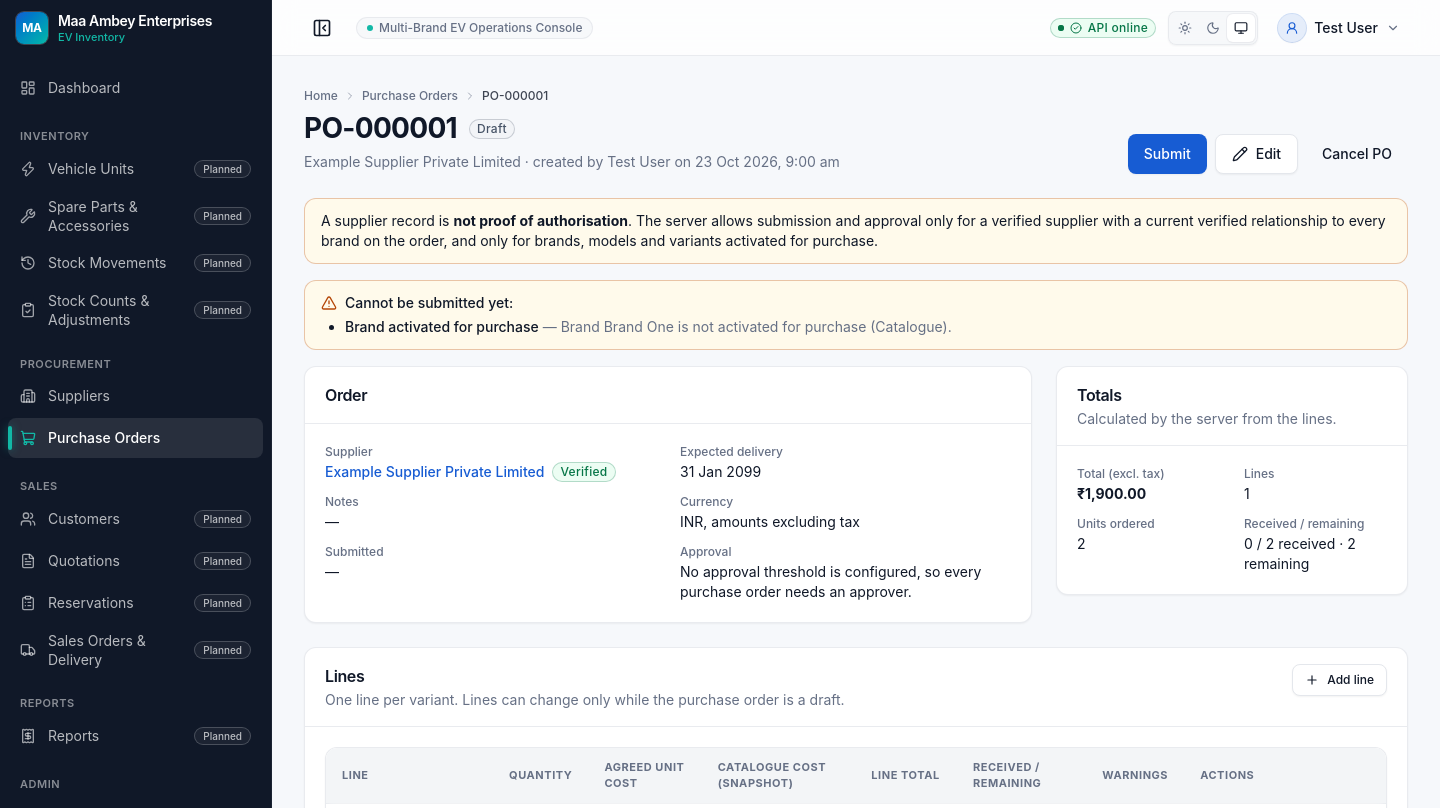
Scenario: purchase order detail › shows lines, hidden snapshot, history and server blockers; submit refusals list them
Expected: the heading "PO-000001" is shown, [304,110,457,147]
Expected: the text "Cannot be submitted yet:" is shown, [321,294,513,311]
Click the button "Submit" at [1167, 154], box [1128,134,1207,174]
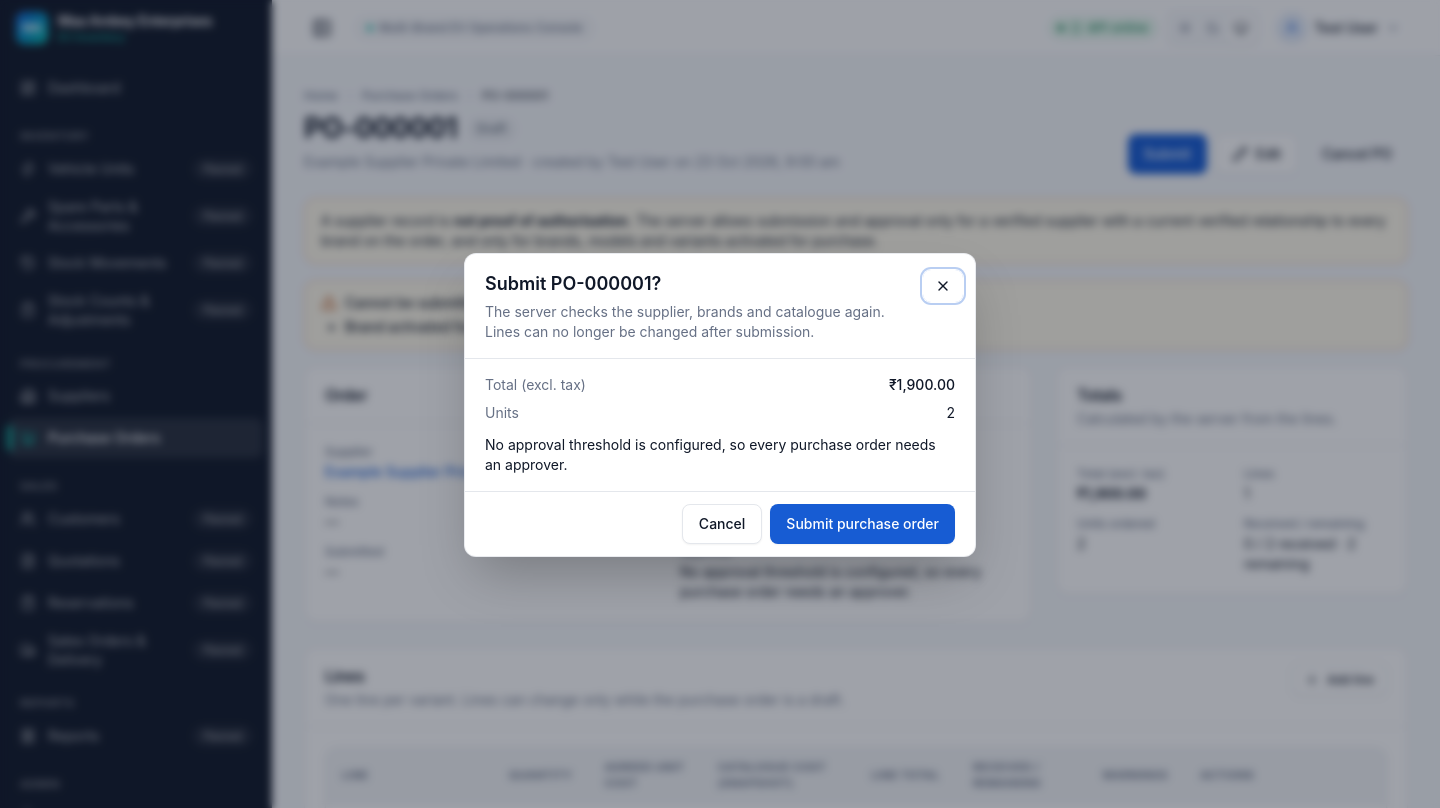
Result: the text "every purchase order needs an approver" is shown at [485,436,936,473]
Click the button "Submit purchase order" at [863, 524], box [770,504,955,544]
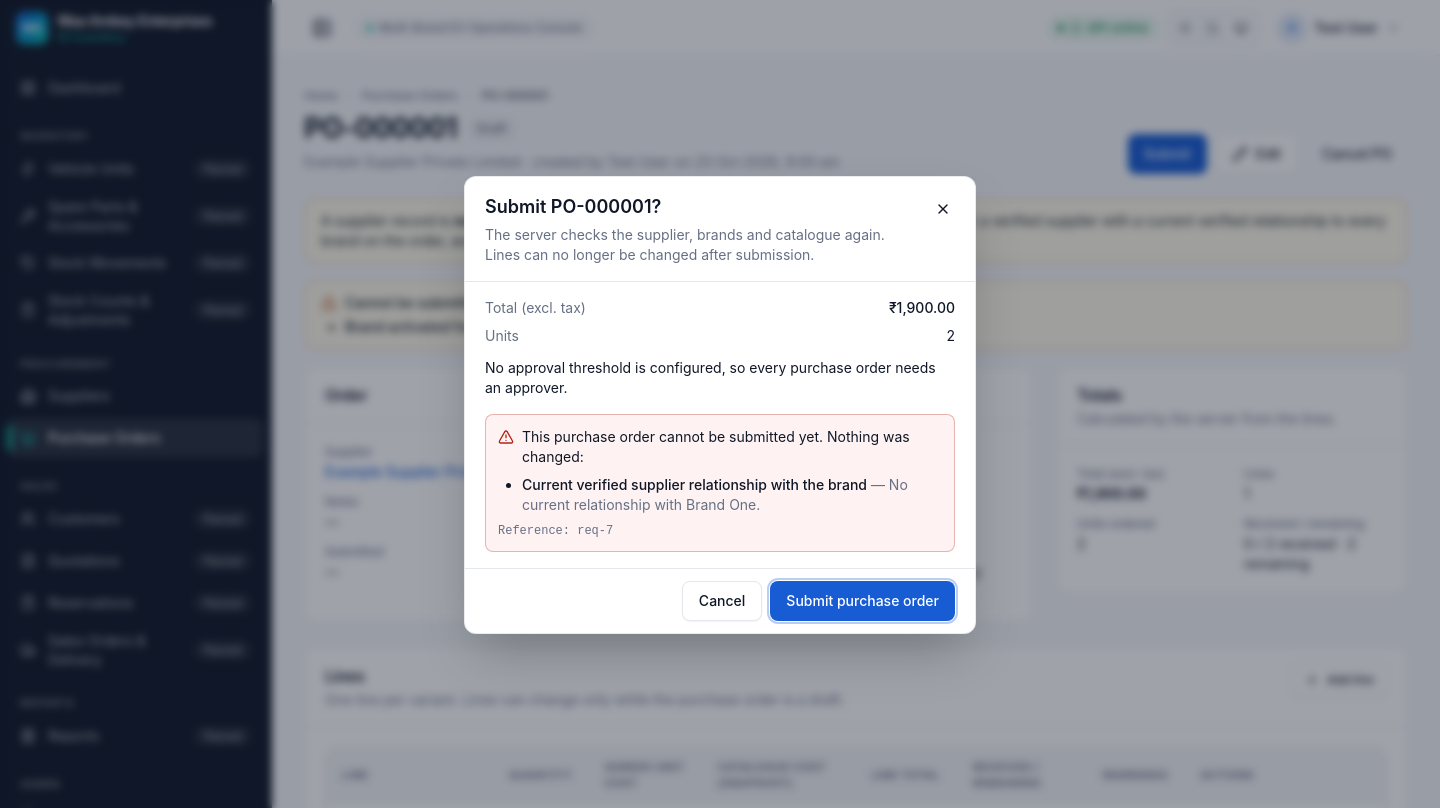
Result: the message shows "cannot be submitted yet" at [522,428,910,465]
Result: the message shows "Current verified supplier relationship with the brand" at [522,476,867,493]
Result: the message shows "req-7" at [577,524,613,538]
